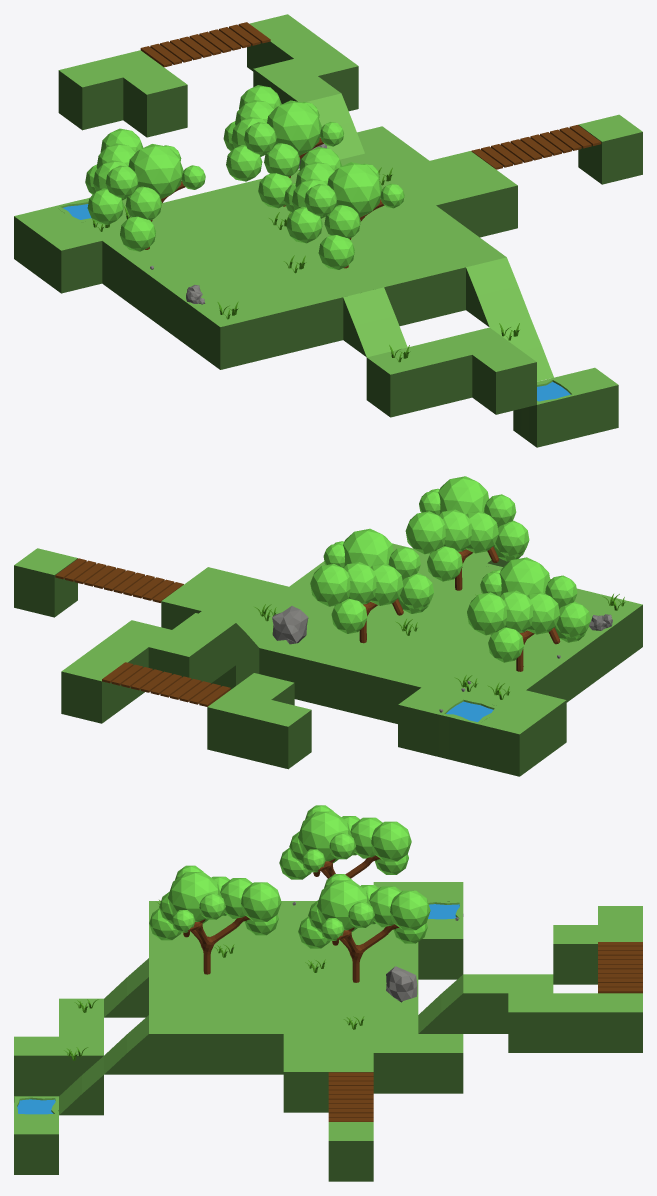
File: IsometricTile_Light.fbx
The picture shows the model from 3 angles, top to bottom: view 1: azimuth 30°, elevation 25°; view 2: azimuth 150°, elevation 25°; view 3: azimuth 270°, elevation 25°; orthographic projection. The views are drawn at different scales.
Parts seen in each view (by area): view 1: Cube, Icosphere, Icosphere.002, Icosphere.001, Cube.001, Cube.034, Cube.028, Cube.035, Cube.029, Cube.012, Cube.030, Cube.023 (+21 smaller); view 2: Cube, Icosphere.001, Icosphere, Icosphere.002, Cube.034, Cube.014, Cube.022, Cube.012, Cube.005, Cube.032, Cube.016, Cube.033 (+14 smaller); view 3: Cube, Icosphere, Icosphere.002, Icosphere.001, Cube.007, Cube.008, Cube.013, Cube.012, Cube.018, Cube.020, Cube.028, Cube.021 (+25 smaller).
Part boxes in pixels (bbox=[...]): Cube: bbox=[79, 153, 506, 369]; Icosphere: bbox=[85, 128, 205, 251]; Icosphere.002: bbox=[284, 147, 404, 269]; Icosphere.001: bbox=[223, 85, 343, 208]; Cube.001: bbox=[37, 223, 102, 293]; Cube.034: bbox=[58, 60, 123, 130]; Cube.028: bbox=[472, 345, 536, 414]; Cube.035: bbox=[123, 67, 187, 137]; Cube.029: bbox=[366, 347, 431, 417]; Cube.012: bbox=[578, 114, 642, 184]; Cube.030: bbox=[343, 287, 407, 357]; Cube.023: bbox=[466, 257, 530, 327]; Cube: bbox=[238, 543, 642, 723]; Icosphere.001: bbox=[310, 528, 433, 633]; Icosphere: bbox=[467, 557, 590, 662]; Icosphere.002: bbox=[405, 476, 529, 581]; Cube.034: bbox=[248, 700, 311, 769]; Cube.014: bbox=[479, 707, 542, 776]; Cube.022: bbox=[61, 654, 125, 723]; Cube.012: bbox=[14, 548, 77, 617]; Cube.005: bbox=[438, 697, 501, 766]; Cube.032: bbox=[102, 662, 230, 706]; Cube.016: bbox=[55, 558, 183, 602]; Cube.033: bbox=[207, 690, 270, 759]; Cube: bbox=[149, 901, 418, 1074]; Icosphere: bbox=[279, 805, 411, 879]; Icosphere.002: bbox=[149, 865, 281, 940]; Icosphere.001: bbox=[298, 874, 430, 948]; Cube.007: bbox=[418, 1034, 463, 1093]; Cube.008: bbox=[373, 1034, 418, 1093]; Cube.013: bbox=[283, 1053, 328, 1112]; Cube.012: bbox=[328, 1122, 373, 1181]; Cube.018: bbox=[463, 974, 508, 1033]; Cube.020: bbox=[508, 993, 553, 1052]; Cube.028: bbox=[14, 1036, 58, 1096]; Cube.021: bbox=[553, 993, 597, 1052].
Size of the model in its own units: 13.63 by 5.49 by 14.
